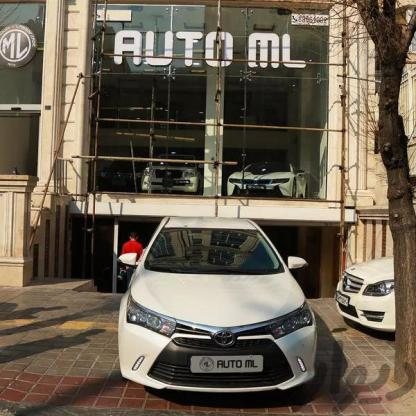Car: (114, 202, 321, 404), (335, 245, 416, 341), (220, 147, 312, 201), (119, 157, 211, 197)
